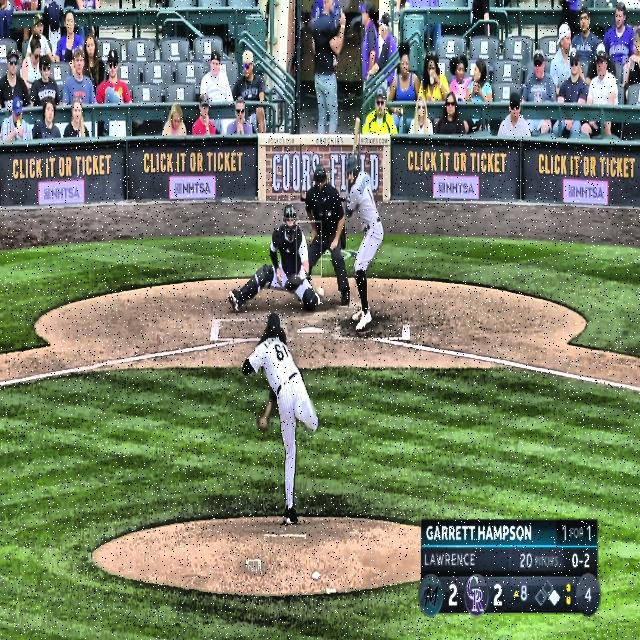baseball: (317, 285, 324, 298)
